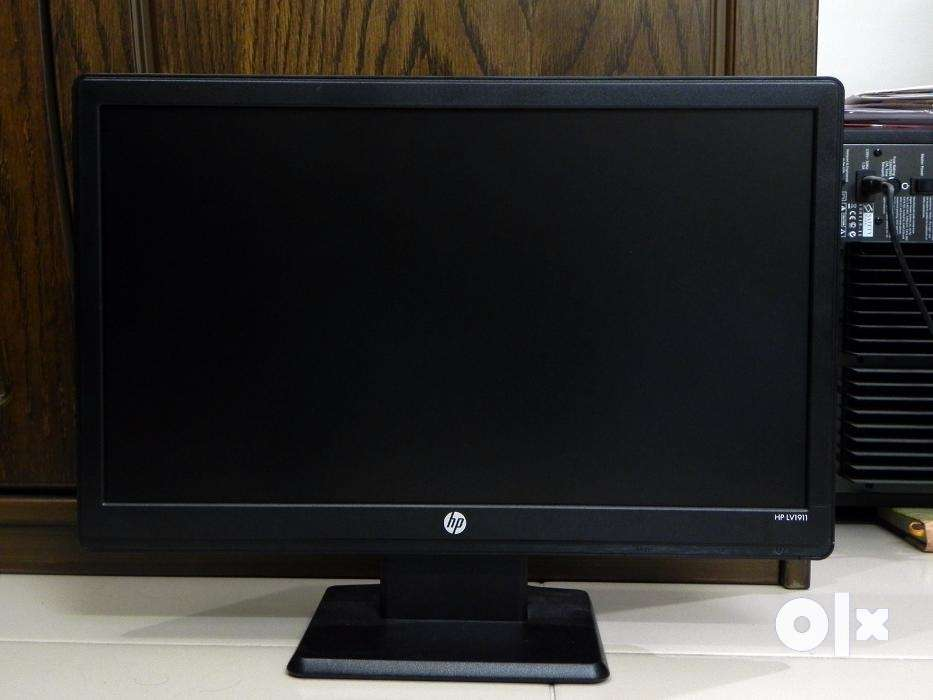hp-monitor-19ka: (80, 76, 852, 676)
